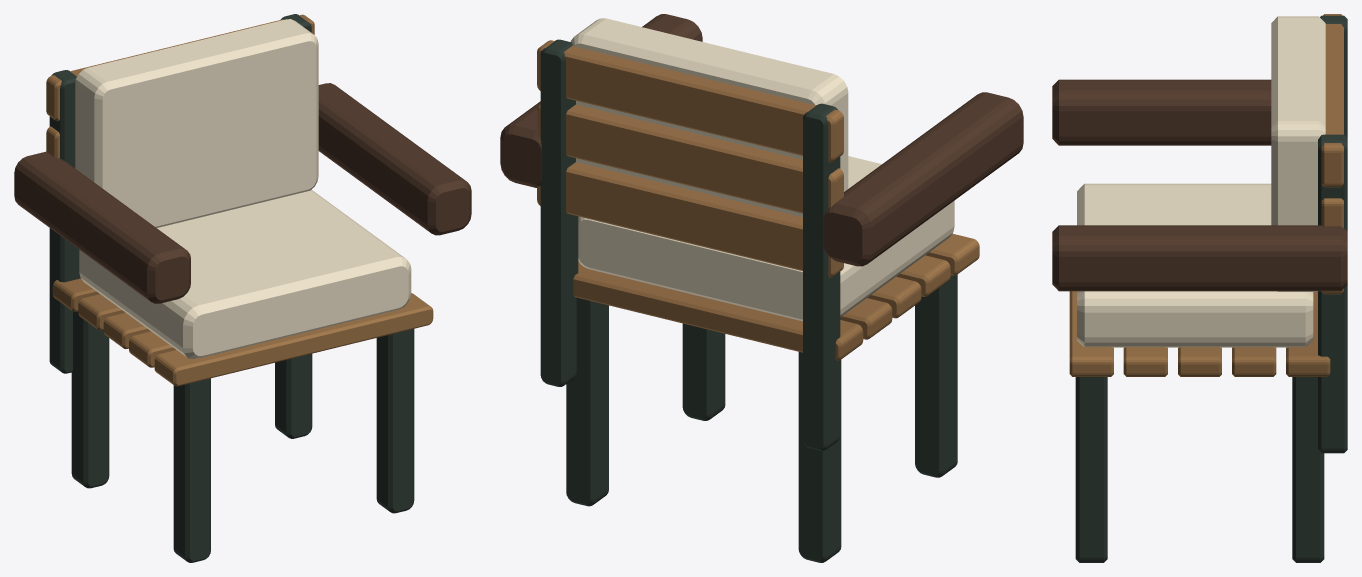
The model's file is armchair.glb.
3 renders of one model, left to right at view 1: azimuth 30°, elevation 25°; view 2: azimuth 150°, elevation 25°; view 3: azimuth 270°, elevation 25°, orthographic. The views are drawn at different scales.
Parts seen in each view (by area): view 1: BackCushion, SeatCushion, ArmRest (×2), Leg (×4), SeatSlat (×5), BackSupport, BackSlat; view 2: BackSlat (×3), Leg (×4), BackSupport (×2), ArmRest (×2), SeatCushion, SeatSlat (×5), BackCushion; view 3: ArmRest (×2), SeatCushion, Leg (×2), BackCushion, SeatSlat (×5), BackSupport (×2), BackSlat (×2).
Part boxes in pixels (x1,y1,x2,y2): BackCushion: (75,19,318,227); SeatCushion: (79,189,411,358); ArmRest (×2): (14,83,471,303); Leg (×4): (71,311,414,562); SeatSlat (×5): (52,278,433,386); BackSupport: (49,70,80,373); BackSlat: (46,14,314,121); BackSlat (×3): (537,40,843,277); Leg (×4): (566,274,957,562); BackSupport (×2): (540,39,840,450); ArmRest (×2): (500,14,1023,266); SeatCushion: (578,156,954,321); SeatSlat (×5): (573,233,979,360); BackCushion: (570,18,848,217); ArmRest (×2): (1052,79,1347,291); SeatCushion: (1077,183,1313,347); Leg (×2): (1075,377,1324,562); BackCushion: (1271,16,1325,291); SeatSlat (×5): (1069,291,1330,376); BackSupport (×2): (1318,15,1347,453); BackSlat (×2): (1321,14,1343,227).
Bounding box in the file's own units: 0.81 × 0.98 × 0.6.
